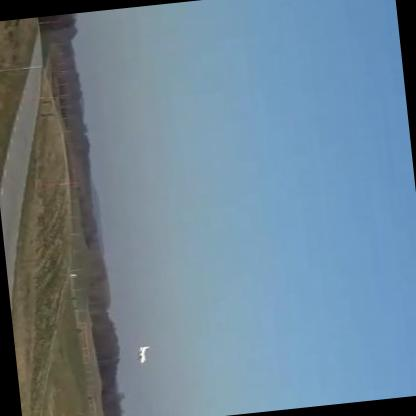plane: (136, 347, 152, 366)
